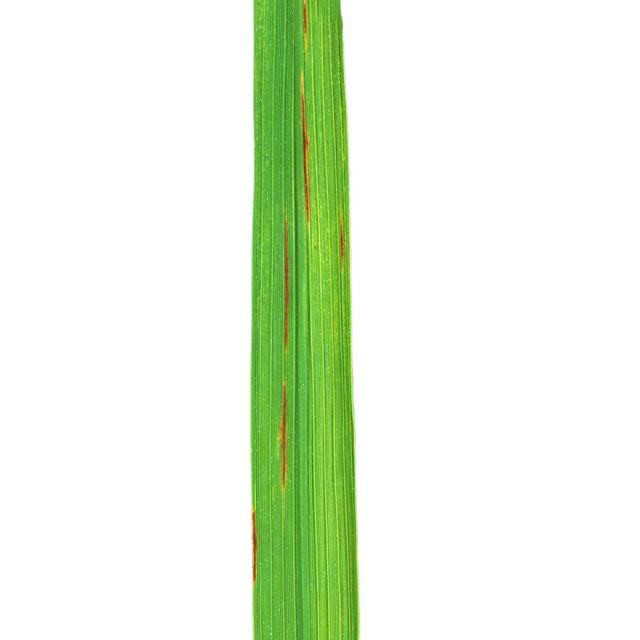Narrow brown: (206, 0, 392, 640)
